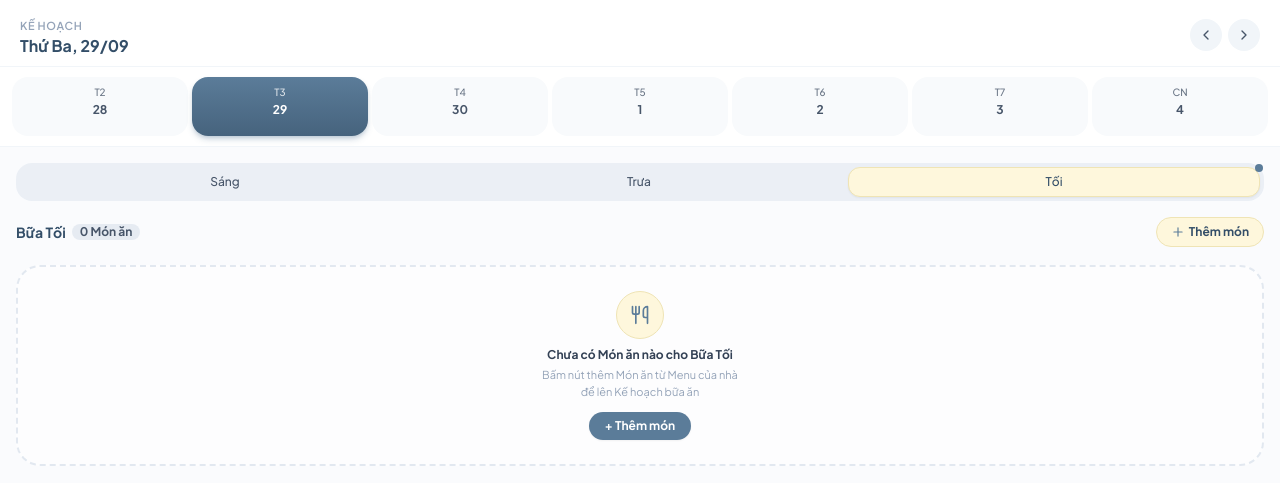
it: Weekly Plan Integration › automatically sets Bữa Tối as default when switching between days in ribbon
The width and height of the screenshot is (1280, 483).
expect the heading "Bữa Tối 0 Món ăn" is shown: met, box [16,222,140,242]
# Switch to Bữa Sáng first
Click the button with test id "meal-tab-breakfast" at (225, 182), box [20,167,430,197]
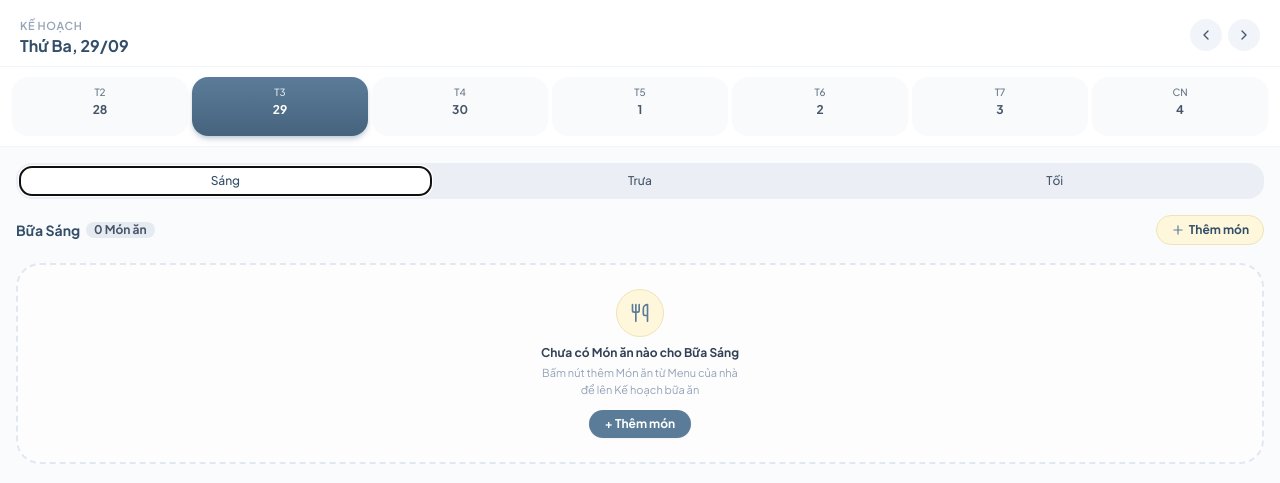
expect the heading "Bữa Sáng 0 Món ăn" is shown: met, box [16,220,155,240]
Click the button with test id "day-btn-2" at (460, 106), box [372,77,548,136]
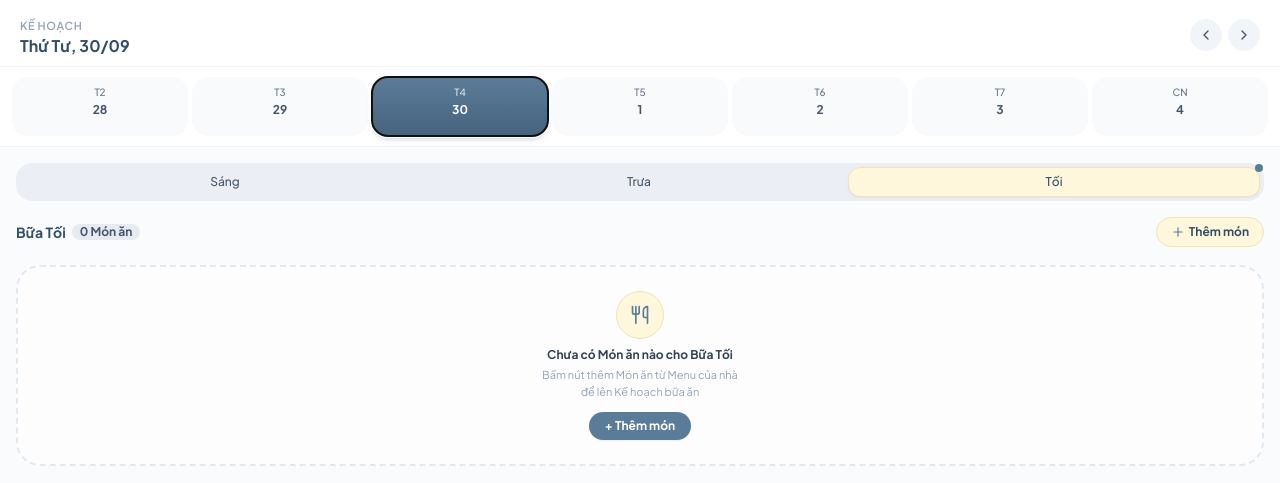
expect the heading "Bữa Tối 0 Món ăn" is shown: met, box [16,222,140,242]
